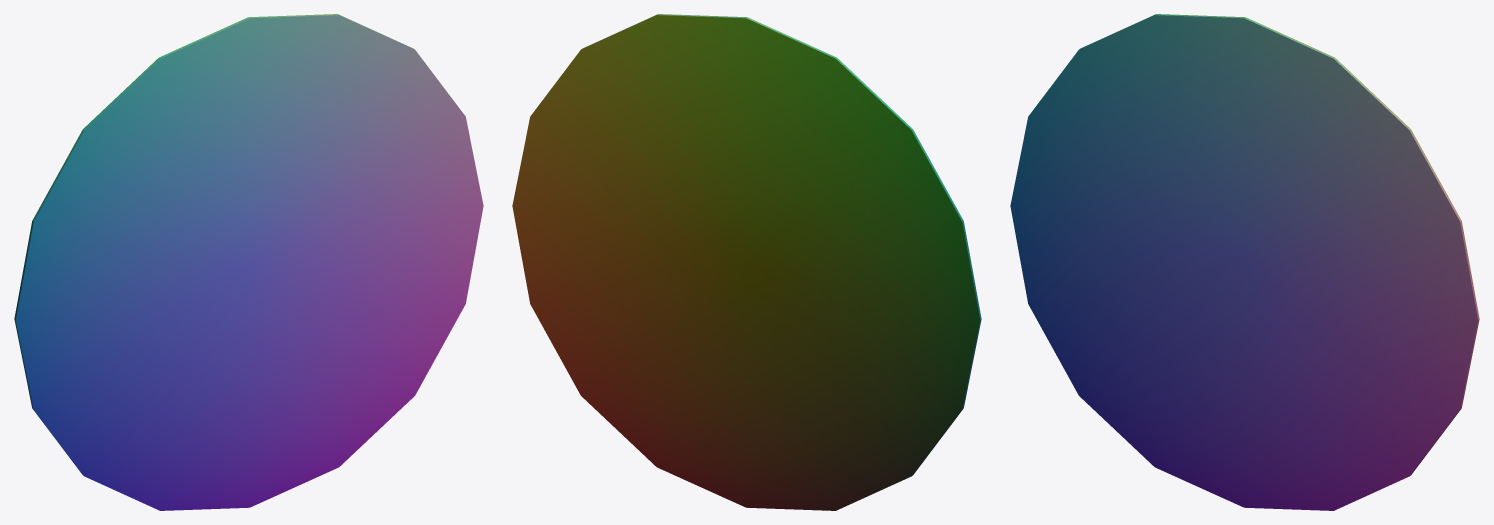
Rendered from zeometry-flat-shapes-flat-oval_v11.glb.
The picture shows the model from 3 angles, left to right: view 1: azimuth 30°, elevation 25°; view 2: azimuth 150°, elevation 25°; view 3: azimuth 330°, elevation 25°; orthographic projection.
Visible parts, largest first — view 1: Flat Oval_v11; view 2: Flat Oval_v11; view 3: Flat Oval_v11.
Boxes of the visible parts, x1,y1,x2,y2 form: Flat Oval_v11: [14, 14, 483, 510]; Flat Oval_v11: [512, 14, 981, 510]; Flat Oval_v11: [1010, 14, 1479, 510].
Bounding box in the file's own units: 0.5 × 0.5 × 0.0028.
